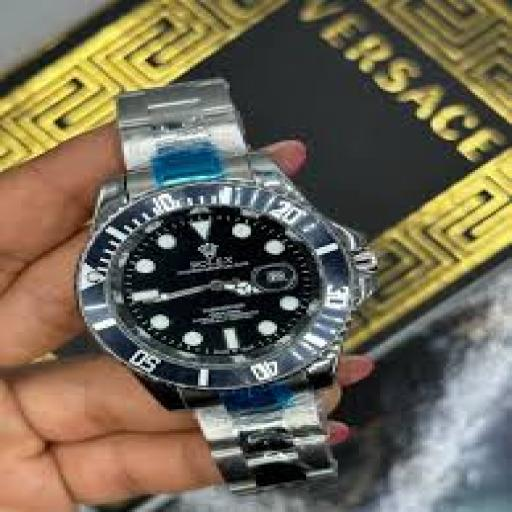KolSaati: (65, 54, 397, 506)
